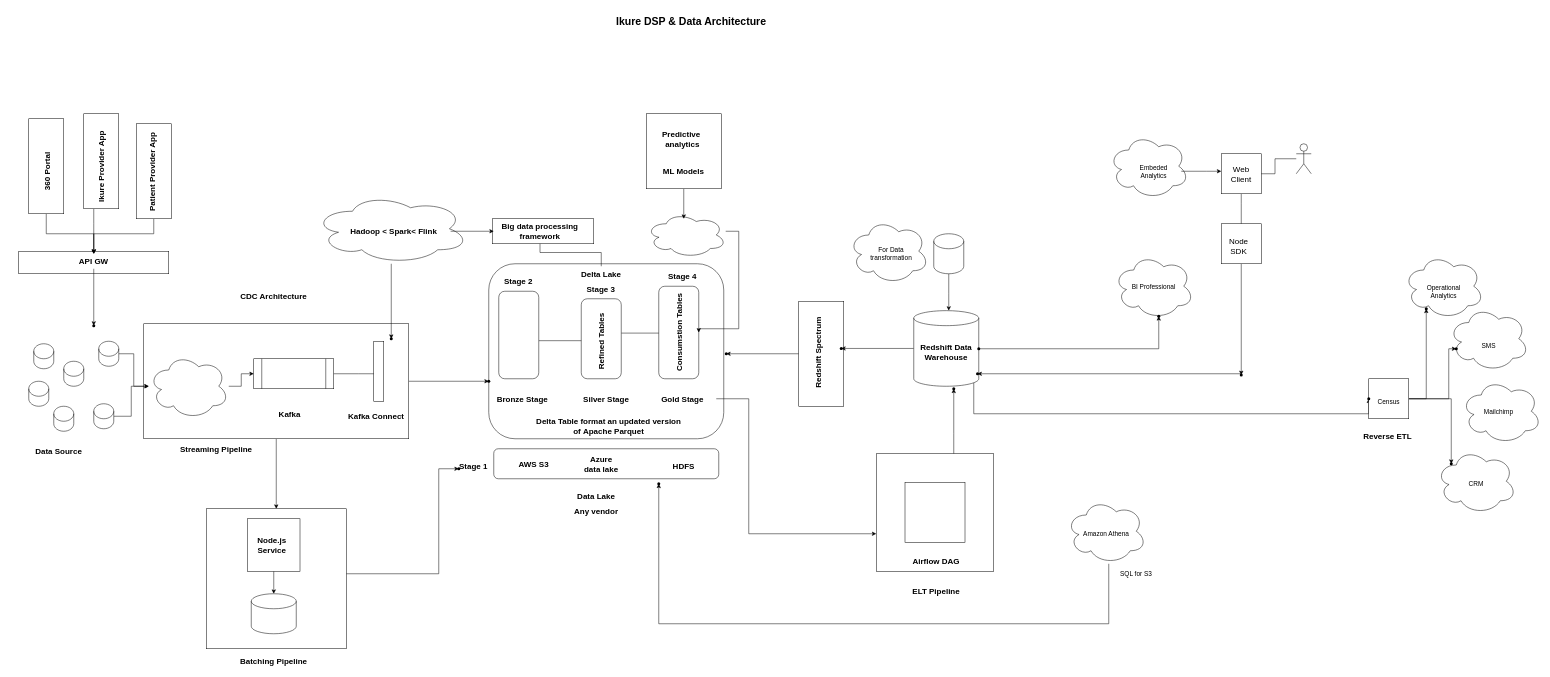
Image size: 1550x677. Some labels were removed from this diagram. The shapes that lost their labels are listed below. From the top down, each one's centre as x and y in pixels, then its label:
At point 1303,158: "Actor".
At point 686,235: "MLOps".
At point 948,253: "dbt".
At point 518,335: "Ingestion Table".
At point 188,386: "Mongo Change streams".
At point 934,512: "Airbyte EL".
At point 273,613: "DB".
